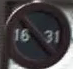No waiting: (4, 3, 68, 61)
